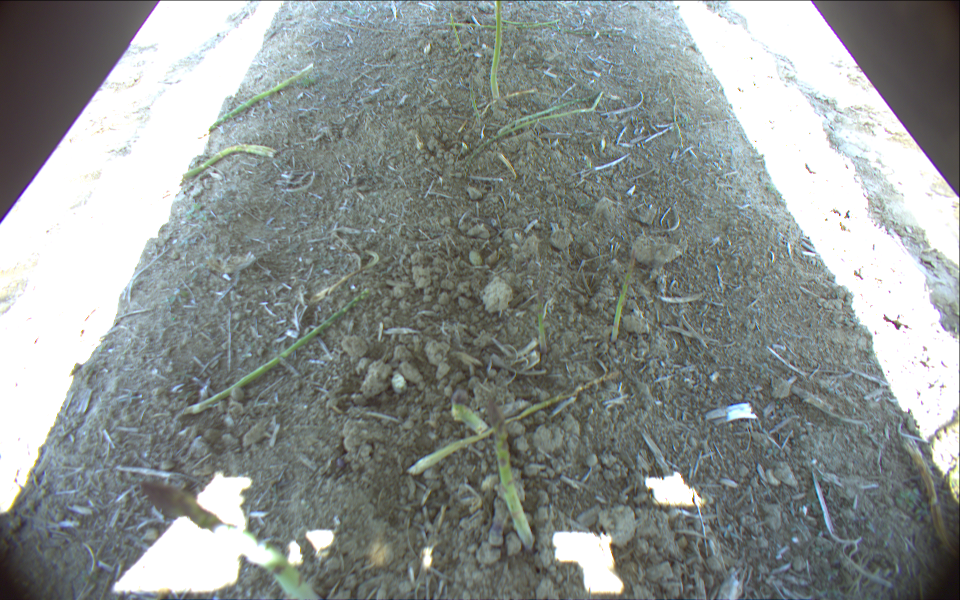aspa: (180, 290, 372, 416), (407, 369, 628, 476), (142, 480, 315, 600), (460, 90, 605, 177), (120, 141, 275, 218), (204, 63, 314, 134), (488, 401, 537, 551), (496, 93, 602, 137), (609, 247, 639, 344), (450, 390, 492, 440), (500, 19, 622, 35), (489, 1, 503, 99), (446, 18, 561, 28), (489, 492, 508, 549), (535, 288, 549, 352), (671, 84, 685, 147), (467, 73, 481, 119), (450, 14, 462, 48)
